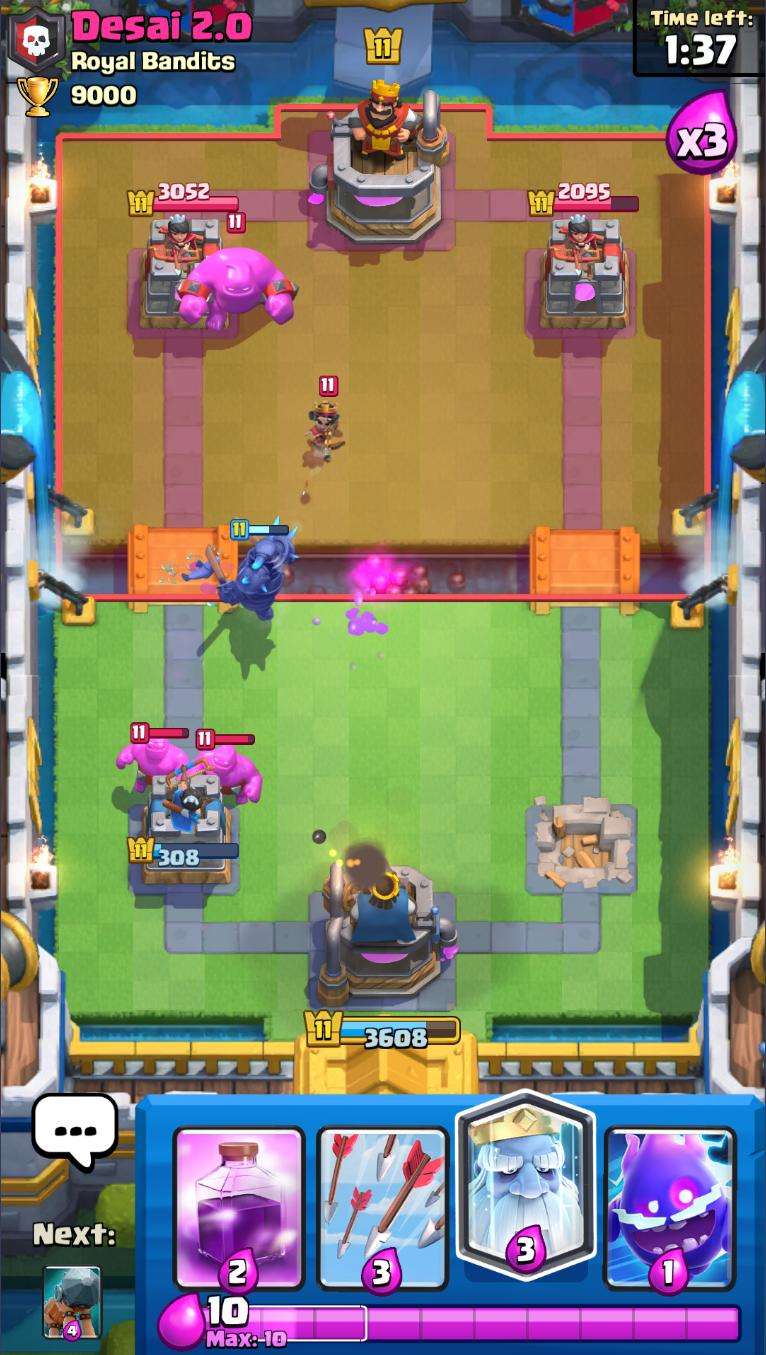ArrowDeck: (311, 1096, 455, 1297)
BattleRamNext: (42, 1264, 104, 1342)
ElectroSpiritDeck: (598, 1094, 743, 1296)
Elixir: (202, 1295, 743, 1351)
ElixirGolem: (175, 211, 300, 334)
ElixirGolemMini: (187, 728, 267, 805), (115, 720, 189, 794)
EnemyTower: (536, 215, 633, 333), (136, 215, 231, 333)
KingTower: (310, 77, 453, 248)
LittlePrince: (299, 376, 357, 462)
MyKingHP: (302, 1006, 462, 1050)
MyKingTower: (316, 858, 459, 1009)
MyPekka: (205, 514, 301, 625)
MyPrincessTower: (127, 770, 241, 888)
MyPrincessTowerBrocken: (524, 801, 639, 900)
MyPrincessTowerHP: (127, 835, 240, 869)
PrincessTower: (550, 214, 605, 276), (151, 215, 206, 275)
RageDeck: (167, 1095, 312, 1295)
RoyaleGhostDeck: (455, 1096, 598, 1299)
TowerPrincessHP: (527, 180, 641, 217), (126, 182, 240, 219)
